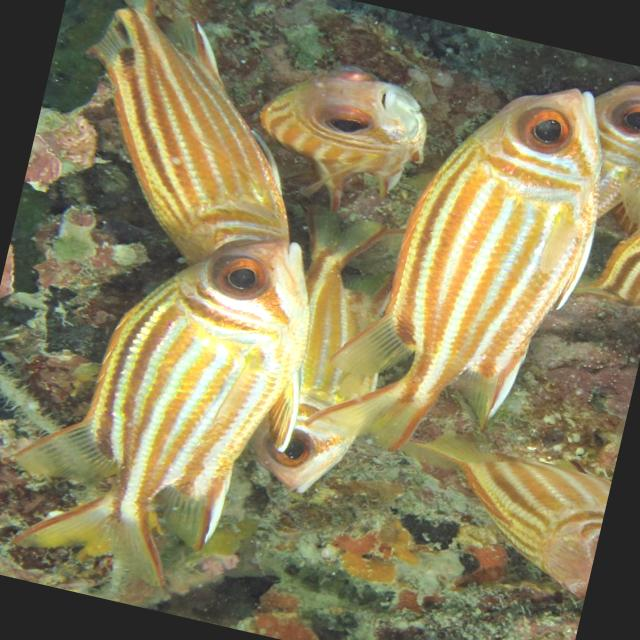Asker Baligi: (299, 41, 628, 488), (0, 187, 337, 609)
